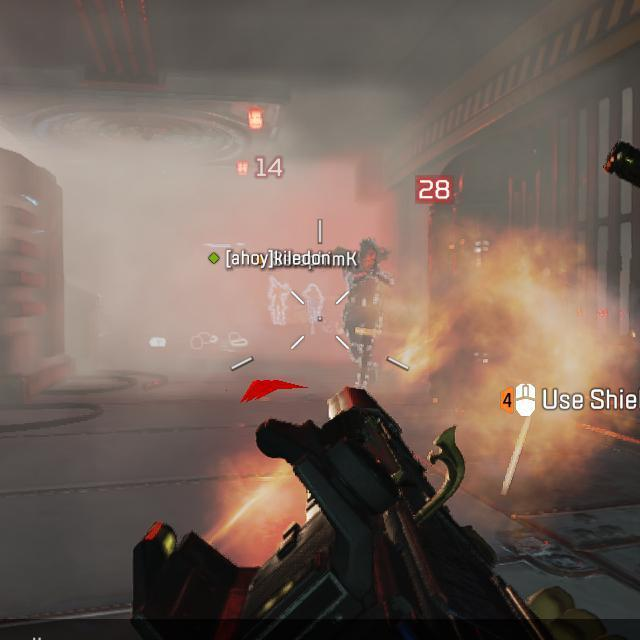avatar: (334, 236, 396, 387)
